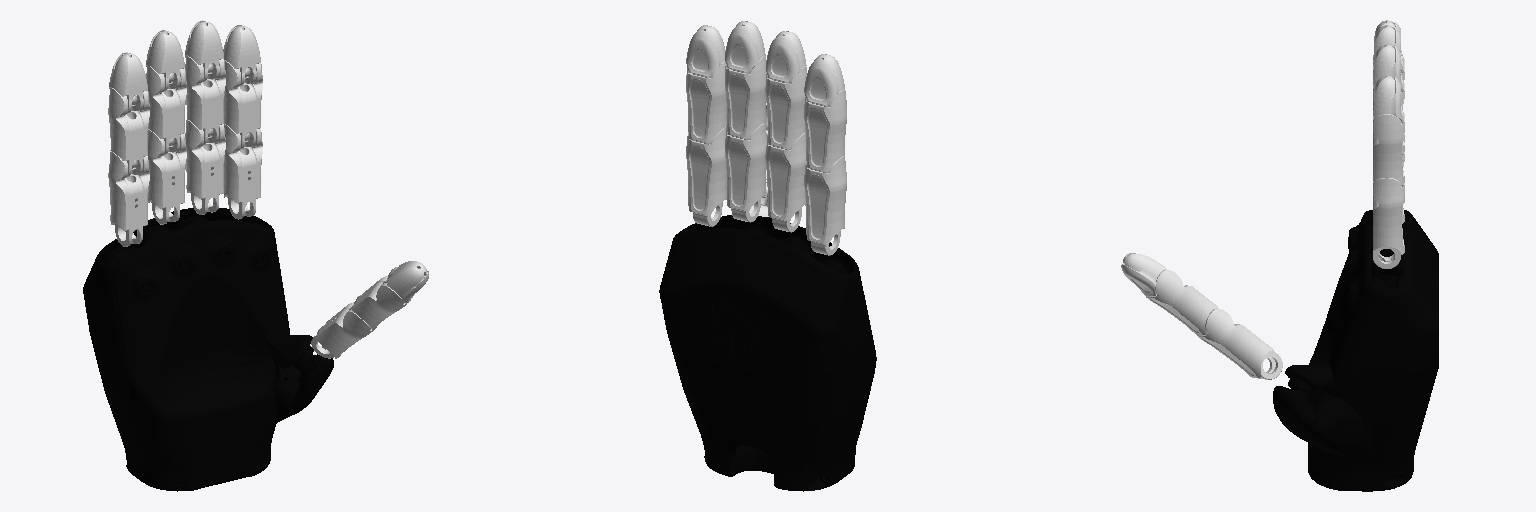
robot.urdf — RoninHand:
<?xml version="1.0" ?>
<robot name="RoninHand">
  
  <!-- ========================================== -->
  <!-- LINKS -->
  <!-- ========================================== -->
  
  <!-- Base Link: Palm -->
  <link name="palm">
    <inertial>
      <origin xyz="0.00247771 0.00711235 0.0561" rpy="0 0 0"/>
      <mass value="0.244584"/>
      <inertia ixx="0.000336792" ixy="1.92136e-05" ixz="6.93985e-06" iyy="0.000445706" iyz="-5.30959e-05" izz="0.000249766"/>
    </inertial>
    <visual>
      <origin xyz="1.11022e-15 0.0349554 -8.92748e-06" rpy="-0.000378854 -1.66533e-16 -6.36305e-16"/>
      <geometry>
        <mesh filename="meshes/palm.stl"/>
      </geometry>
      <material name="palm_material">
        <color rgba="0.05 0.05 0.05 1"/>
      </material>
    </visual>
    <collision>
      <origin xyz="1.11022e-15 0.0349554 -8.92748e-06" rpy="-0.000378854 -1.66533e-16 -6.36305e-16"/>
      <geometry>
        <mesh filename="meshes/palm.stl"/>
      </geometry>
    </collision>
  </link>
  
  <!-- Pinky Finger Links -->
  <link name="link1">
    <inertial>
      <origin xyz="1.24592e-06 0.00948887 -0.000176014" rpy="0 0 0"/>
      <mass value="0.00557921"/>
      <inertia ixx="6.23092e-07" ixy="-4.87167e-11" ixz="-1.10821e-12" iyy="2.55467e-07" iyz="4.05015e-09" izz="7.47064e-07"/>
    </inertial>
    <visual>
      <origin xyz="-0.201142 -0.324957 -0.425463" rpy="-1.5708 -2.26366e-16 1.19342e-15"/>
      <geometry>
        <mesh filename="meshes/link1.stl"/>
      </geometry>
      <material name="link1_material">
        <color rgba="0.9 0.9 0.9 1"/>
      </material>
    </visual>
    <collision>
      <origin xyz="-0.201142 -0.324957 -0.425463" rpy="-1.5708 -2.26366e-16 1.19342e-15"/>
      <geometry>
        <mesh filename="meshes/link1.stl"/>
      </geometry>
    </collision>
  </link>
  
  <link name="link2">
    <inertial>
      <origin xyz="0.0199139 -0.000557783 -1.32117e-07" rpy="0 0 0"/>
      <mass value="0.00828121"/>
      <inertia ixx="3.0342e-07" ixy="-5.11727e-09" ixz="-8.09965e-12" iyy="1.18797e-06" iyz="-3.05559e-12" izz="1.10581e-06"/>
    </inertial>
    <visual>
      <origin xyz="-0.345587 -0.425925 -0.201103" rpy="3.14159 -1.57068 1.13882e-20"/>
      <geometry>
        <mesh filename="meshes/link2.stl"/>
      </geometry>
      <material name="link2_material">
        <color rgba="0.9 0.9 0.9 1"/>
      </material>
    </visual>
    <collision>
      <origin xyz="-0.345587 -0.425925 -0.201103" rpy="3.14159 -1.57068 1.13882e-20"/>
      <geometry>
        <mesh filename="meshes/link2.stl"/>
      </geometry>
    </collision>
  </link>
  
  <link name="link3">
    <inertial>
      <origin xyz="0.0184522 -0.000584989 2.75006e-08" rpy="0 0 0"/>
      <mass value="0.00766064"/>
      <inertia ixx="2.8295e-07" ixy="-5.60408e-09" ixz="-1.16879e-11" iyy="9.91219e-07" iyz="1.56658e-12" izz="9.11858e-07"/>
    </inertial>
    <visual>
      <origin xyz="-0.380587 -0.425925 -0.201103" rpy="3.14159 -1.57068 5.72428e-21"/>
      <geometry>
        <mesh filename="meshes/link3.stl"/>
      </geometry>
      <material name="link3_material">
        <color rgba="0.9 0.9 0.9 1"/>
      </material>
    </visual>
    <collision>
      <origin xyz="-0.380587 -0.425925 -0.201103" rpy="3.14159 -1.57068 5.72428e-21"/>
      <geometry>
        <mesh filename="meshes/link3.stl"/>
      </geometry>
    </collision>
  </link>
  
  <link name="link4">
    <inertial>
      <origin xyz="0.00960929 -0.000743819 1.63355e-07" rpy="0 0 0"/>
      <mass value="0.00325597"/>
      <inertia ixx="8.33846e-08" ixy="-6.28649e-09" ixz="-2.16166e-12" iyy="1.7473e-07" iyz="1.37179e-12" izz="1.71477e-07"/>
    </inertial>
    <visual>
      <origin xyz="-0.412587 -0.425925 -0.201103" rpy="3.14159 -1.57068 3.44394e-20"/>
      <geometry>
        <mesh filename="meshes/link4.stl"/>
      </geometry>
      <material name="link4_material">
        <color rgba="0.9 0.9 0.9 1"/>
      </material>
    </visual>
    <collision>
      <origin xyz="-0.412587 -0.425925 -0.201103" rpy="3.14159 -1.57068 3.44394e-20"/>
      <geometry>
        <mesh filename="meshes/link4.stl"/>
      </geometry>
    </collision>
  </link>
  
  <!-- Ring Finger Links -->
  <link name="link1_2">
    <inertial>
      <origin xyz="1.24592e-06 0.00948887 -0.000176014" rpy="0 0 0"/>
      <mass value="0.00557921"/>
      <inertia ixx="6.23092e-07" ixy="-4.87167e-11" ixz="-1.10821e-12" iyy="2.55467e-07" iyz="4.05015e-09" izz="7.47064e-07"/>
    </inertial>
    <visual>
      <origin xyz="-0.201142 -0.324957 -0.425463" rpy="-1.5708 3.1944e-17 -6.82167e-16"/>
      <geometry>
        <mesh filename="meshes/link1.stl"/>
      </geometry>
      <material name="link1_2_material">
        <color rgba="0.9 0.9 0.9 1"/>
      </material>
    </visual>
    <collision>
      <origin xyz="-0.201142 -0.324957 -0.425463" rpy="-1.5708 3.1944e-17 -6.82167e-16"/>
      <geometry>
        <mesh filename="meshes/link1.stl"/>
      </geometry>
    </collision>
  </link>
  
  <link name="link2_2">
    <inertial>
      <origin xyz="0.0199139 -0.000557783 -1.32117e-07" rpy="0 0 0"/>
      <mass value="0.00828121"/>
      <inertia ixx="3.0342e-07" ixy="-5.11727e-09" ixz="-8.09965e-12" iyy="1.18797e-06" iyz="-3.05559e-12" izz="1.10581e-06"/>
    </inertial>
    <visual>
      <origin xyz="-0.345587 -0.425925 -0.201103" rpy="3.14159 -1.57068 4.20593e-20"/>
      <geometry>
        <mesh filename="meshes/link2.stl"/>
      </geometry>
      <material name="link2_2_material">
        <color rgba="0.9 0.9 0.9 1"/>
      </material>
    </visual>
    <collision>
      <origin xyz="-0.345587 -0.425925 -0.201103" rpy="3.14159 -1.57068 4.20593e-20"/>
      <geometry>
        <mesh filename="meshes/link2.stl"/>
      </geometry>
    </collision>
  </link>
  
  <link name="link3_2">
    <inertial>
      <origin xyz="0.0184522 -0.000584989 2.75006e-08" rpy="0 0 0"/>
      <mass value="0.00766064"/>
      <inertia ixx="2.8295e-07" ixy="-5.60408e-09" ixz="-1.16879e-11" iyy="9.91219e-07" iyz="1.56658e-12" izz="9.11858e-07"/>
    </inertial>
    <visual>
      <origin xyz="-0.380587 -0.425925 -0.201103" rpy="3.14159 -1.57068 -1.62935e-20"/>
      <geometry>
        <mesh filename="meshes/link3.stl"/>
      </geometry>
      <material name="link3_2_material">
        <color rgba="0.9 0.9 0.9 1"/>
      </material>
    </visual>
    <collision>
      <origin xyz="-0.380587 -0.425925 -0.201103" rpy="3.14159 -1.57068 -1.62935e-20"/>
      <geometry>
        <mesh filename="meshes/link3.stl"/>
      </geometry>
    </collision>
  </link>
  
  <link name="link4_2">
    <inertial>
      <origin xyz="0.00960929 -0.000743819 1.63355e-07" rpy="0 0 0"/>
      <mass value="0.00325597"/>
      <inertia ixx="8.33846e-08" ixy="-6.28649e-09" ixz="-2.16166e-12" iyy="1.7473e-07" iyz="1.37179e-12" izz="1.71477e-07"/>
    </inertial>
    <visual>
      <origin xyz="-0.412587 -0.425925 -0.201103" rpy="3.14159 -1.57068 3.44394e-20"/>
      <geometry>
        <mesh filename="meshes/link4.stl"/>
      </geometry>
      <material name="link4_2_material">
        <color rgba="0.9 0.9 0.9 1"/>
      </material>
    </visual>
    <collision>
      <origin xyz="-0.412587 -0.425925 -0.201103" rpy="3.14159 -1.57068 3.44394e-20"/>
      <geometry>
        <mesh filename="meshes/link4.stl"/>
      </geometry>
    </collision>
  </link>
  
  <!-- Middle Finger Links -->
  <link name="link1_3">
    <inertial>
      <origin xyz="1.24592e-06 0.00948887 -0.000176014" rpy="0 0 0"/>
      <mass value="0.00557921"/>
      <inertia ixx="6.23092e-07" ixy="-4.87167e-11" ixz="-1.10821e-12" iyy="2.55467e-07" iyz="4.05015e-09" izz="7.47064e-07"/>
    </inertial>
    <visual>
      <origin xyz="-0.201142 -0.324957 -0.425463" rpy="-1.5708 -9.74947e-17 -5.05489e-17"/>
      <geometry>
        <mesh filename="meshes/link1.stl"/>
      </geometry>
      <material name="link1_3_material">
        <color rgba="0.9 0.9 0.9 1"/>
      </material>
    </visual>
    <collision>
      <origin xyz="-0.201142 -0.324957 -0.425463" rpy="-1.5708 -9.74947e-17 -5.05489e-17"/>
      <geometry>
        <mesh filename="meshes/link1.stl"/>
      </geometry>
    </collision>
  </link>
  
  <link name="link2_3">
    <inertial>
      <origin xyz="0.0199139 -0.000557783 -1.32117e-07" rpy="0 0 0"/>
      <mass value="0.00828121"/>
      <inertia ixx="3.0342e-07" ixy="-5.11727e-09" ixz="-8.09965e-12" iyy="1.18797e-06" iyz="-3.05559e-12" izz="1.10581e-06"/>
    </inertial>
    <visual>
      <origin xyz="-0.345587 -0.425925 -0.201103" rpy="3.14159 -1.57068 -3.81158e-20"/>
      <geometry>
        <mesh filename="meshes/link2.stl"/>
      </geometry>
      <material name="link2_3_material">
        <color rgba="0.9 0.9 0.9 1"/>
      </material>
    </visual>
    <collision>
      <origin xyz="-0.345587 -0.425925 -0.201103" rpy="3.14159 -1.57068 -3.81158e-20"/>
      <geometry>
        <mesh filename="meshes/link2.stl"/>
      </geometry>
    </collision>
  </link>
  
  <link name="link3_3">
    <inertial>
      <origin xyz="0.0184522 -0.000584989 2.75006e-08" rpy="0 0 0"/>
      <mass value="0.00766064"/>
      <inertia ixx="2.8295e-07" ixy="-5.60408e-09" ixz="-1.16879e-11" iyy="9.91219e-07" iyz="1.56658e-12" izz="9.11858e-07"/>
    </inertial>
    <visual>
      <origin xyz="-0.380587 -0.425925 -0.201103" rpy="3.14159 -1.57068 -2.55522e-20"/>
      <geometry>
        <mesh filename="meshes/link3.stl"/>
      </geometry>
      <material name="link3_3_material">
        <color rgba="0.9 0.9 0.9 1"/>
      </material>
    </visual>
    <collision>
      <origin xyz="-0.380587 -0.425925 -0.201103" rpy="3.14159 -1.57068 -2.55522e-20"/>
      <geometry>
        <mesh filename="meshes/link3.stl"/>
      </geometry>
    </collision>
  </link>
  
  <link name="link4_3">
    <inertial>
      <origin xyz="0.00960929 -0.000743819 1.63355e-07" rpy="0 0 0"/>
      <mass value="0.00325597"/>
      <inertia ixx="8.33846e-08" ixy="-6.28649e-09" ixz="-2.16166e-12" iyy="1.7473e-07" iyz="1.37179e-12" izz="1.71477e-07"/>
    </inertial>
    <visual>
      <origin xyz="-0.412587 -0.425925 -0.201103" rpy="3.14159 -1.57068 3.44394e-20"/>
      <geometry>
        <mesh filename="meshes/link4.stl"/>
      </geometry>
      <material name="link4_3_material">
        <color rgba="0.9 0.9 0.9 1"/>
      </material>
    </visual>
    <collision>
      <origin xyz="-0.412587 -0.425925 -0.201103" rpy="3.14159 -1.57068 3.44394e-20"/>
      <geometry>
        <mesh filename="meshes/link4.stl"/>
      </geometry>
    </collision>
  </link>
  
  <!-- Index Finger Links -->
  <link name="link1_4">
    <inertial>
      <origin xyz="1.24592e-06 -0.00948887 0.000176014" rpy="0 0 0"/>
      <mass value="0.00557921"/>
      <inertia ixx="6.23092e-07" ixy="4.87167e-11" ixz="1.10821e-12" iyy="2.55467e-07" iyz="4.05015e-09" izz="7.47064e-07"/>
    </inertial>
    <visual>
      <origin xyz="-0.201142 0.324957 0.425463" rpy="1.5708 -2.28539e-20 4.40789e-33"/>
      <geometry>
        <mesh filename="meshes/link1.stl"/>
      </geometry>
      <material name="link1_4_material">
        <color rgba="0.9 0.9 0.9 1"/>
      </material>
    </visual>
    <collision>
      <origin xyz="-0.201142 0.324957 0.425463" rpy="1.5708 -2.28539e-20 4.40789e-33"/>
      <geometry>
        <mesh filename="meshes/link1.stl"/>
      </geometry>
    </collision>
  </link>
  
  <link name="link2_4">
    <inertial>
      <origin xyz="0.0199139 -0.000557783 -1.32117e-07" rpy="0 0 0"/>
      <mass value="0.00828121"/>
      <inertia ixx="3.0342e-07" ixy="-5.11727e-09" ixz="-8.09965e-12" iyy="1.18797e-06" iyz="-3.05559e-12" izz="1.10581e-06"/>
    </inertial>
    <visual>
      <origin xyz="-0.345587 -0.425925 -0.201103" rpy="3.14159 -1.57068 -8.30399e-21"/>
      <geometry>
        <mesh filename="meshes/link2.stl"/>
      </geometry>
      <material name="link2_4_material">
        <color rgba="0.9 0.9 0.9 1"/>
      </material>
    </visual>
    <collision>
      <origin xyz="-0.345587 -0.425925 -0.201103" rpy="3.14159 -1.57068 -8.30399e-21"/>
      <geometry>
        <mesh filename="meshes/link2.stl"/>
      </geometry>
    </collision>
  </link>
  
  <link name="link3_4">
    <inertial>
      <origin xyz="0.0184522 -0.000584989 2.75006e-08" rpy="0 0 0"/>
      <mass value="0.00766064"/>
      <inertia ixx="2.8295e-07" ixy="-5.60408e-09" ixz="-1.16879e-11" iyy="9.91219e-07" iyz="1.56658e-12" izz="9.11858e-07"/>
    </inertial>
    <visual>
      <origin xyz="-0.380587 -0.425925 -0.201103" rpy="3.14159 -1.57068 2.72319e-20"/>
      <geometry>
        <mesh filename="meshes/link3.stl"/>
      </geometry>
      <material name="link3_4_material">
        <color rgba="0.9 0.9 0.9 1"/>
      </material>
    </visual>
    <collision>
      <origin xyz="-0.380587 -0.425925 -0.201103" rpy="3.14159 -1.57068 2.72319e-20"/>
      <geometry>
        <mesh filename="meshes/link3.stl"/>
      </geometry>
    </collision>
  </link>
  
  <link name="link4_4">
    <inertial>
      <origin xyz="0.00960929 -0.000743819 1.63355e-07" rpy="0 0 0"/>
      <mass value="0.00325597"/>
      <inertia ixx="8.33846e-08" ixy="-6.28649e-09" ixz="-2.16166e-12" iyy="1.7473e-07" iyz="1.37179e-12" izz="1.71477e-07"/>
    </inertial>
    <visual>
      <origin xyz="-0.412587 -0.425925 -0.201103" rpy="3.14159 -1.57068 3.44394e-20"/>
      <geometry>
        <mesh filename="meshes/link4.stl"/>
      </geometry>
      <material name="link4_4_material">
        <color rgba="0.9 0.9 0.9 1"/>
      </material>
    </visual>
    <collision>
      <origin xyz="-0.412587 -0.425925 -0.201103" rpy="3.14159 -1.57068 3.44394e-20"/>
      <geometry>
        <mesh filename="meshes/link4.stl"/>
      </geometry>
    </collision>
  </link>
  
  <!-- Thumb Links -->
  <link name="thumblink1">
    <inertial>
      <origin xyz="0.00203666 -0.0110464 -0.000176122" rpy="0 0 0"/>
      <mass value="0.00471183"/>
      <inertia ixx="4.59849e-07" ixy="4.86227e-08" ixz="9.13856e-10" iyy="2.05088e-07" iyz="-4.93568e-09" izz="5.79708e-07"/>
    </inertial>
    <visual>
      <origin xyz="-0.0464745 0.274952 0.00409008" rpy="1.5708 4.79399e-15 0.182328"/>
      <geometry>
        <mesh filename="meshes/thumblink1.stl"/>
      </geometry>
      <material name="thumblink1_material">
        <color rgba="0.9 0.9 0.9 1"/>
      </material>
    </visual>
    <collision>
      <origin xyz="-0.0464745 0.274952 0.00409008" rpy="1.5708 4.79399e-15 0.182328"/>
      <geometry>
        <mesh filename="meshes/thumblink1.stl"/>
      </geometry>
    </collision>
  </link>
  
  <link name="link2_5">
    <inertial>
      <origin xyz="0.0199139 -0.000557783 -1.32117e-07" rpy="0 0 0"/>
      <mass value="0.00828121"/>
      <inertia ixx="3.0342e-07" ixy="-5.11727e-09" ixz="-8.09965e-12" iyy="1.18797e-06" iyz="-3.05559e-12" izz="1.10581e-06"/>
    </inertial>
    <visual>
      <origin xyz="-0.345587 -0.425925 -0.201103" rpy="-3.14159 -1.57068 -4.78267e-14"/>
      <geometry>
        <mesh filename="meshes/link2.stl"/>
      </geometry>
      <material name="link2_5_material">
        <color rgba="0.9 0.9 0.9 1"/>
      </material>
    </visual>
    <collision>
      <origin xyz="-0.345587 -0.425925 -0.201103" rpy="-3.14159 -1.57068 -4.78267e-14"/>
      <geometry>
        <mesh filename="meshes/link2.stl"/>
      </geometry>
    </collision>
  </link>
  
  <link name="link3_5">
    <inertial>
      <origin xyz="0.0184522 -0.000584989 2.75006e-08" rpy="0 0 0"/>
      <mass value="0.00766064"/>
      <inertia ixx="2.8295e-07" ixy="-5.60408e-09" ixz="-1.16879e-11" iyy="9.91219e-07" iyz="1.56658e-12" izz="9.11858e-07"/>
    </inertial>
    <visual>
      <origin xyz="-0.380587 -0.425925 -0.201103" rpy="-3.14159 -1.57068 -2.71222e-13"/>
      <geometry>
        <mesh filename="meshes/link3.stl"/>
      </geometry>
      <material name="link3_5_material">
        <color rgba="0.9 0.9 0.9 1"/>
      </material>
    </visual>
    <collision>
      <origin xyz="-0.380587 -0.425925 -0.201103" rpy="-3.14159 -1.57068 -2.71222e-13"/>
      <geometry>
        <mesh filename="meshes/link3.stl"/>
      </geometry>
    </collision>
  </link>
  
  <link name="link4_5">
    <inertial>
      <origin xyz="0.00960929 -0.000743819 1.63355e-07" rpy="0 0 0"/>
      <mass value="0.00325597"/>
      <inertia ixx="8.33846e-08" ixy="-6.28649e-09" ixz="-2.16166e-12" iyy="1.7473e-07" iyz="1.37179e-12" izz="1.71477e-07"/>
    </inertial>
    <visual>
      <origin xyz="-0.412587 -0.425925 -0.201103" rpy="3.14159 -1.57068 5.18967e-13"/>
      <geometry>
        <mesh filename="meshes/link4.stl"/>
      </geometry>
      <material name="link4_5_material">
        <color rgba="0.9 0.9 0.9 1"/>
      </material>
    </visual>
    <collision>
      <origin xyz="-0.412587 -0.425925 -0.201103" rpy="3.14159 -1.57068 5.18967e-13"/>
      <geometry>
        <mesh filename="meshes/link4.stl"/>
      </geometry>
    </collision>
  </link>
  
  <!-- ========================================== -->
  <!-- JOINTS -->
  <!-- ========================================== -->
  
  <!-- Pinky Finger Joints -->
  <joint name="pinky_abduction" type="revolute">
    <origin xyz="-0.0297929 0.0116552 0.0994921" rpy="1.57042 -1.66521e-16 -6.02684e-16"/>
    <parent link="palm"/>
    <child link="link1"/>
    <axis xyz="0 0 1"/>
    <limit effort="10" velocity="10" lower="-0.174533" upper="0.174533"/>
  </joint>
  
  <joint name="pinky_mcp" type="revolute">
    <origin xyz="2.46263e-06 0.0206062 0.000462132" rpy="1.5708 1.13266e-14 1.57068"/>
    <parent link="link1"/>
    <child link="link2"/>
    <axis xyz="0 0 1"/>
    <limit effort="10" velocity="10" lower="0" upper="1.5708"/>
  </joint>
  
  <joint name="pinky_pip" type="revolute">
    <origin xyz="0.035 3.98986e-17 -7.59809e-16" rpy="9.04184e-19 -3.30369e-19 1.09407e-14"/>
    <parent link="link2"/>
    <child link="link3"/>
    <axis xyz="0 0 1"/>
    <limit effort="10" velocity="10" lower="0" upper="1.5708"/>
  </joint>
  
  <joint name="pinky_dip" type="revolute">
    <origin xyz="0.032 -4.85723e-17 2.74086e-16" rpy="9.04144e-19 -1.26512e-19 8.58487e-17"/>
    <parent link="link3"/>
    <child link="link4"/>
    <axis xyz="0 0 1"/>
    <limit effort="10" velocity="10" lower="0" upper="1.5708"/>
  </joint>
  
  <!-- Ring Finger Joints -->
  <joint name="ring_abduction" type="revolute">
    <origin xyz="-0.0103 0.0116578 0.106154" rpy="1.57042 -1.6653e-16 -6.26195e-16"/>
    <parent link="palm"/>
    <child link="link1_2"/>
    <axis xyz="0 0 1"/>
    <limit effort="10" velocity="10" lower="-0.174533" upper="0.174533"/>
  </joint>
  
  <joint name="ring_mcp" type="revolute">
    <origin xyz="2.46263e-06 0.0206062 0.000462132" rpy="1.5708 9.65659e-16 1.57068"/>
    <parent link="link1_2"/>
    <child link="link2_2"/>
    <axis xyz="0 0 1"/>
    <limit effort="10" velocity="10" lower="0" upper="1.5708"/>
  </joint>
  
  <joint name="ring_pip" type="revolute">
    <origin xyz="0.035 -4.51028e-17 -6.59195e-17" rpy="9.04188e-19 -3.30369e-19 -3.00063e-15"/>
    <parent link="link2_2"/>
    <child link="link3_2"/>
    <axis xyz="0 0 1"/>
    <limit effort="10" velocity="10" lower="0" upper="1.5708"/>
  </joint>
  
  <joint name="ring_dip" type="revolute">
    <origin xyz="0.032 8.67362e-18 -4.18068e-16" rpy="9.04151e-19 -1.26512e-19 3.66366e-15"/>
    <parent link="link3_2"/>
    <child link="link4_2"/>
    <axis xyz="0 0 1"/>
    <limit effort="10" velocity="10" lower="0" upper="1.5708"/>
  </joint>
  
  <!-- Middle Finger Joints -->
  <joint name="middle_abduction" type="revolute">
    <origin xyz="0.0103 0.0116578 0.106154" rpy="1.57042 -1.66537e-16 -6.46413e-16"/>
    <parent link="palm"/>
    <child link="link1_3"/>
    <axis xyz="0 0 1"/>
    <limit effort="10" velocity="10" lower="-0.174533" upper="0.174533"/>
  </joint>
  
  <joint name="middle_mcp" type="revolute">
    <origin xyz="2.46263e-06 0.0206062 0.000462132" rpy="1.5708 -1.53271e-13 1.57068"/>
    <parent link="link1_3"/>
    <child link="link2_3"/>
    <axis xyz="0 0 1"/>
    <limit effort="10" velocity="10" lower="0" upper="1.5708"/>
  </joint>
  
  <joint name="middle_pip" type="revolute">
    <origin xyz="0.035 -5.20417e-18 -6.59195e-17" rpy="9.04195e-19 -3.16816e-19 -2.54003e-13"/>
    <parent link="link2_3"/>
    <child link="link3_3"/>
    <axis xyz="0 0 1"/>
    <limit effort="10" velocity="10" lower="0" upper="1.5708"/>
  </joint>
  
  <joint name="middle_dip" type="revolute">
    <origin xyz="0.032 -3.46945e-18 -4.18068e-16" rpy="9.04156e-19 -1.40065e-19 1.00429e-13"/>
    <parent link="link3_3"/>
    <child link="link4_3"/>
    <axis xyz="0 0 1"/>
    <limit effort="10" velocity="10" lower="0" upper="1.5708"/>
  </joint>
  
  <!-- Index Finger Joints -->
  <joint name="index_abduction" type="revolute">
    <origin xyz="0.0297929 0.0116552 0.0994921" rpy="-1.57118 -1.16034e-16 -7.67461e-16"/>
    <parent link="palm"/>
    <child link="link1_4"/>
    <axis xyz="0 0 1"/>
    <limit effort="10" velocity="10" lower="-0.174533" upper="0.174533"/>
  </joint>
  
  <joint name="index_mcp" type="revolute">
    <origin xyz="2.46263e-06 -0.0206062 -0.000462132" rpy="-1.5708 6.39277e-15 -1.57068"/>
    <parent link="link1_4"/>
    <child link="link2_4"/>
    <axis xyz="0 0 1"/>
    <limit effort="10" velocity="10" lower="0" upper="1.5708"/>
  </joint>
  
  <joint name="index_pip" type="revolute">
    <origin xyz="0.035 -4.16334e-17 -9.71445e-17" rpy="9.04187e-19 -3.30369e-19 -2.13482e-14"/>
    <parent link="link2_4"/>
    <child link="link3_4"/>
    <axis xyz="0 0 1"/>
    <limit effort="10" velocity="10" lower="0" upper="1.5708"/>
  </joint>
  
  <joint name="index_dip" type="revolute">
    <origin xyz="0.032 1.21431e-17 -3.95517e-16" rpy="9.04144e-19 -1.26512e-19 1.42343e-14"/>
    <parent link="link3_4"/>
    <child link="link4_4"/>
    <axis xyz="0 0 1"/>
    <limit effort="10" velocity="10" lower="0" upper="1.5708"/>
  </joint>
  
  <!-- Thumb Joints -->
  <joint name="thumb_abduction" type="revolute">
    <origin xyz="0.0400927 -0.0290943 0.0554876" rpy="-0.72553 -0.478575 0.387753"/>
    <parent link="palm"/>
    <child link="thumblink1"/>
    <axis xyz="0 0 1"/>
    <limit effort="10" velocity="10" lower="-0.88046" upper="0.515804"/>
  </joint>
  
  <joint name="thumb_mcp" type="revolute">
    <origin xyz="0.0037363 -0.0202646 0.000462132" rpy="1.5708 -0.0221439 -1.38847"/>
    <parent link="thumblink1"/>
    <child link="link2_5"/>
    <axis xyz="0 0 1"/>
    <limit effort="10" velocity="10" lower="-0.0221439" upper="1.54865"/>
  </joint>
  
  <joint name="thumb_pip" type="revolute">
    <origin xyz="0.035 -2.32019e-17 -6.93889e-18" rpy="1.00975e-14 -5.42883e-15 -2.23311e-14"/>
    <parent link="link2_5"/>
    <child link="link3_5"/>
    <axis xyz="0 0 1"/>
    <limit effort="10" velocity="10" lower="0" upper="1.5708"/>
  </joint>
  
  <joint name="thumb_dip" type="revolute">
    <origin xyz="0.032 -1.4962e-17 -4.3715e-16" rpy="-2.26313e-14 -2.13759e-14 5.09782e-13"/>
    <parent link="link3_5"/>
    <child link="link4_5"/>
    <axis xyz="0 0 1"/>
    <limit effort="10" velocity="10" lower="0" upper="1.5708"/>
  </joint>
  
</robot>

--- What the picture shows (computed from the rendered views, not written in the file) ---
The picture shows the robot from 3 angles, left to right: view 1: azimuth 30°, elevation 25°; view 2: azimuth 150°, elevation 25°; view 3: azimuth 270°, elevation 25°; orthographic projection.
Robot: RoninHand — 21 links, 20 joints (20 revolute); root link palm; default pose: every joint at zero.
Visible links, largest first — view 1: palm, link2, link2_3, link2_2, link2_4, link3, link3_3, link3_2, link3_4, link2_5, link3_5, link4_3 (+4 smaller); view 2: palm, link2, link2_3, link2_4, link2_2, link3, link3_3, link3_4, link3_2, link4, link4_3, link4_2 (+1 smaller); view 3: palm, link2_5, link2_4, link3_5, link3_4, link4_5, link4_4, link4_3, link4_2.
Boxes of the visible links, <box> form: palm: <box>83,208,333,491</box>; link2: <box>108,151,149,246</box>; link2_3: <box>185,120,225,214</box>; link2_2: <box>148,129,186,224</box>; link2_4: <box>224,124,262,219</box>; link3: <box>108,88,149,176</box>; link3_3: <box>185,56,225,144</box>; link3_2: <box>146,66,186,154</box>; link3_4: <box>224,60,262,149</box>; link2_5: <box>311,295,374,358</box>; link3_5: <box>349,267,414,329</box>; link4_3: <box>185,20,223,81</box>; palm: <box>659,215,876,491</box>; link2: <box>804,156,846,255</box>; link2_3: <box>725,123,766,222</box>; link2_4: <box>686,127,726,226</box>; link2_2: <box>765,133,805,232</box>; link3: <box>804,89,846,172</box>; link3_3: <box>725,56,766,139</box>; link3_4: <box>686,61,726,143</box>; link3_2: <box>765,66,806,149</box>; link4: <box>804,54,844,106</box>; link4_3: <box>725,21,765,73</box>; link4_2: <box>766,31,806,83</box>; palm: <box>1273,210,1438,491</box>; link2_5: <box>1197,309,1282,379</box>; link2_4: <box>1373,178,1404,268</box>; link3_5: <box>1146,270,1218,334</box>; link3_4: <box>1373,114,1404,185</box>; link4_5: <box>1121,253,1166,295</box>; link4_4: <box>1373,75,1403,122</box>; link4_3: <box>1373,44,1403,91</box>; link4_2: <box>1373,25,1403,72</box>.
Bounding box of the posed robot: 0.1071 × 0.1456 × 0.2158 m (x, y, z).
Meshes: 6 distinct files referenced, 16 mesh visuals loaded (4 binary STL); not drawn: 5 (reference not matched to a file when rendering).